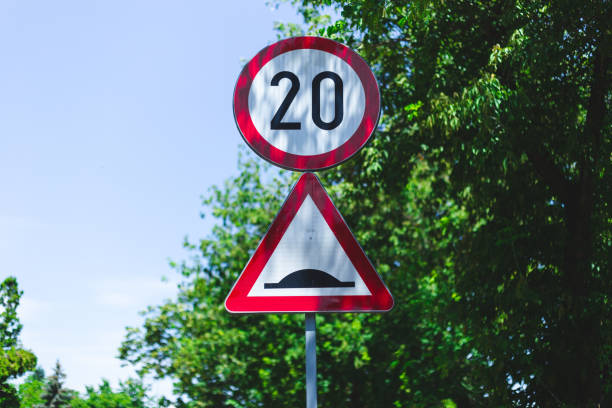speed-breaker: (226, 173, 393, 310)
